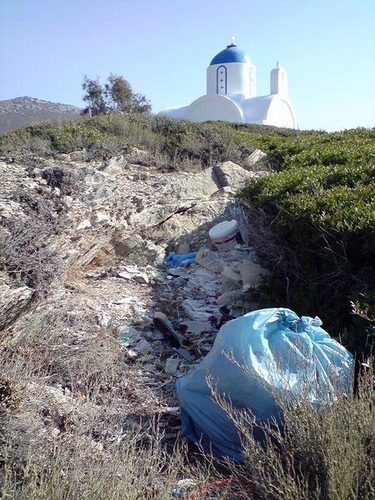litter: (181, 309, 352, 454), (207, 220, 245, 250), (161, 252, 196, 264)
